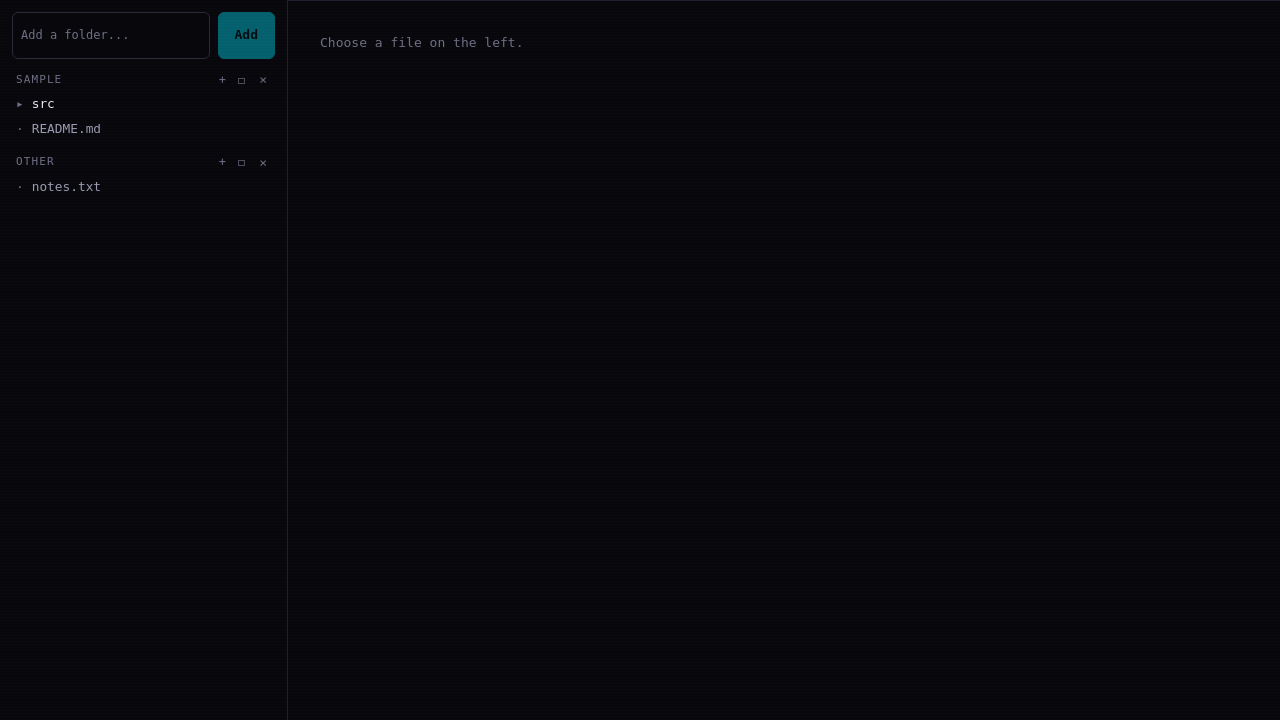
Test: the editor › closes one folder and leaves the other open
Expected: the button "· README.md" is shown, [8,117,279,141]
Click the button named "Close folder sample".
click(263, 80)  # box [255,73,271,86]
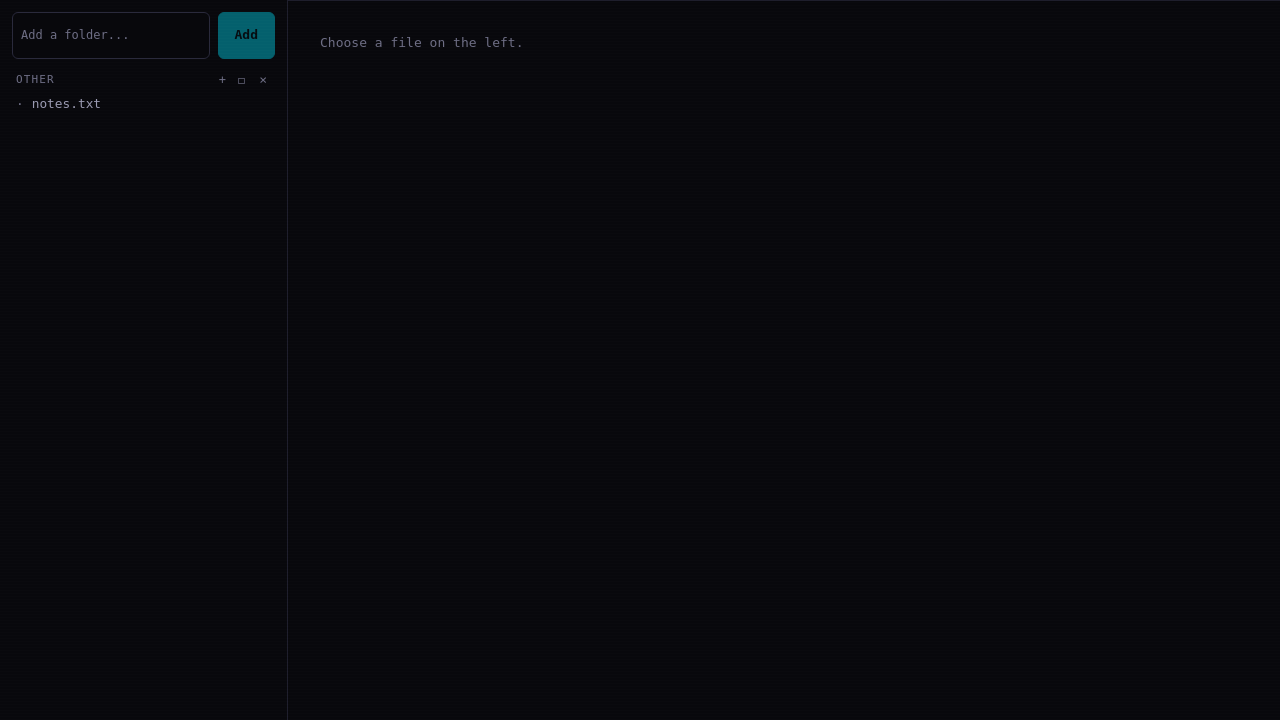
Expected: the button "· notes.txt" is shown, [8,92,279,117]
Expected: the button "README.md" is gone
